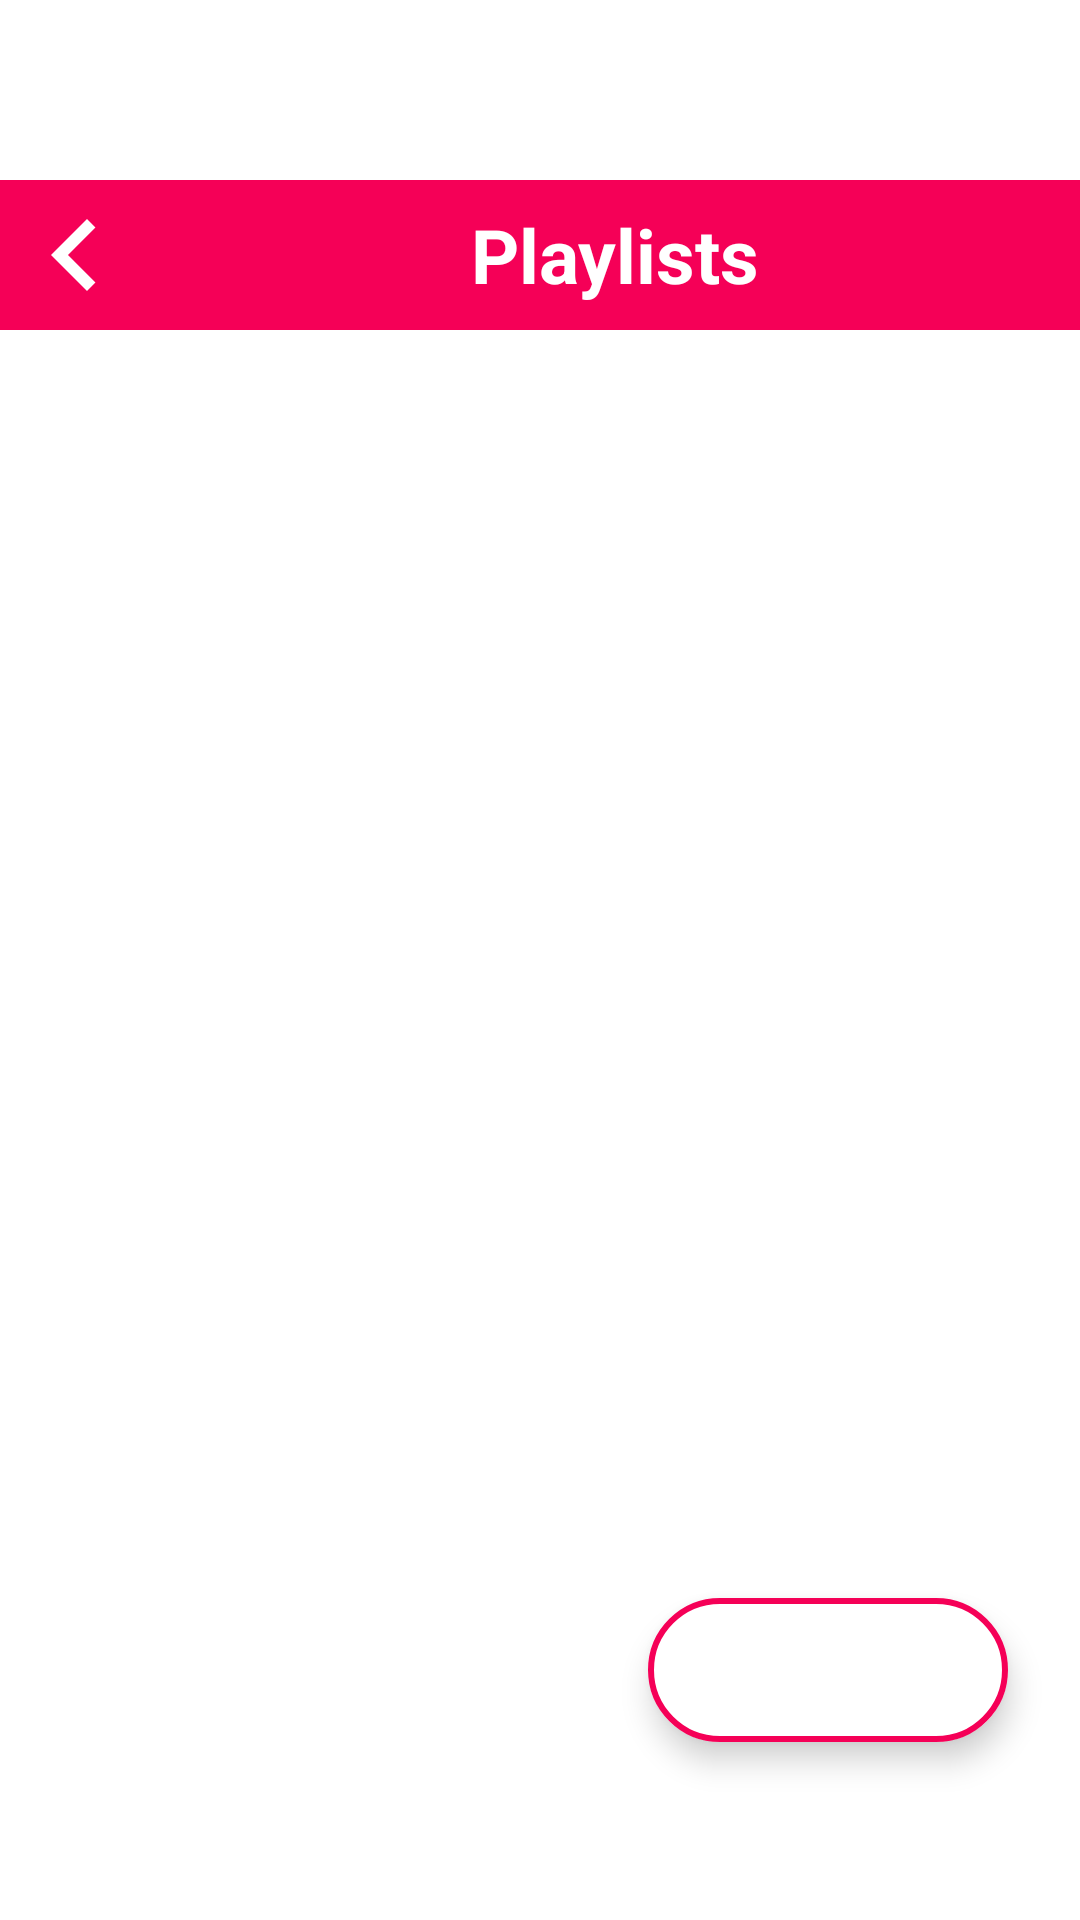

Point at icon controls on the screen. Image size 1080px x 1920px, points as (x=x, y=y).
Trở lại: (x=73, y=255)
